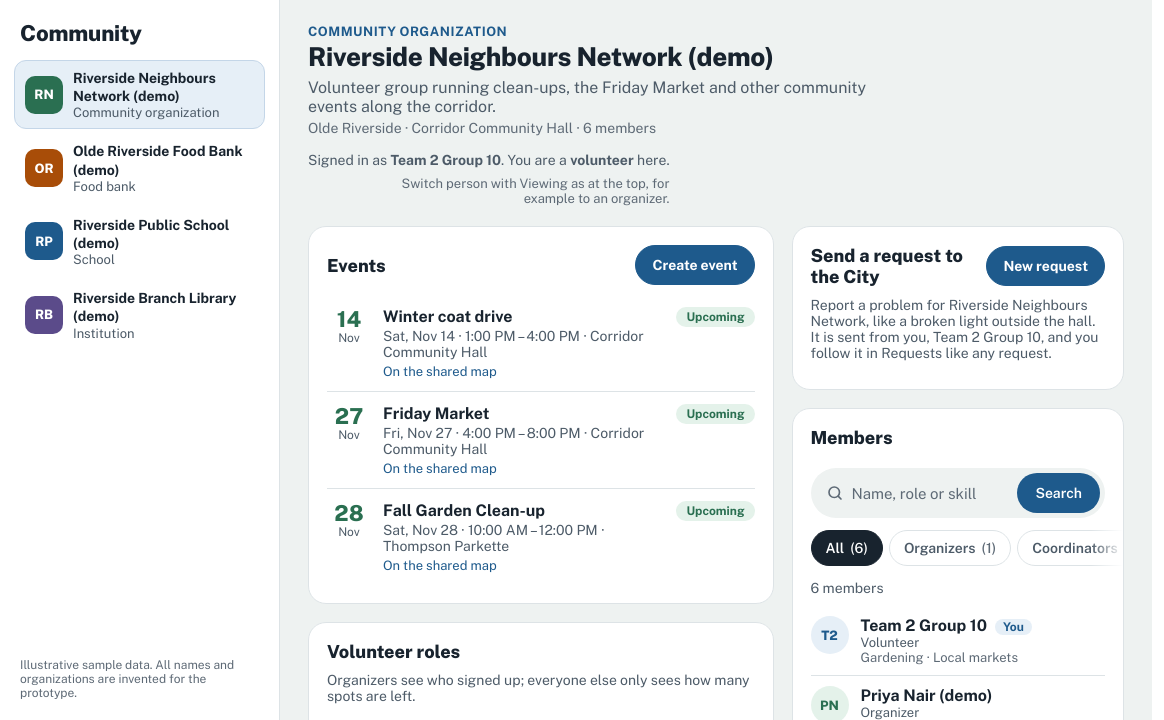
it: School workspace › lists the safe routes with their status in words and a link to the map
This screenshot has width=1164, height=720.
Expected: the heading "Riverside Neighbours Network (demo)" is shown, [308, 41, 774, 72]
Click the button "RP Riverside Public School (demo) School". click: click(140, 242)
box: [14, 207, 265, 276]
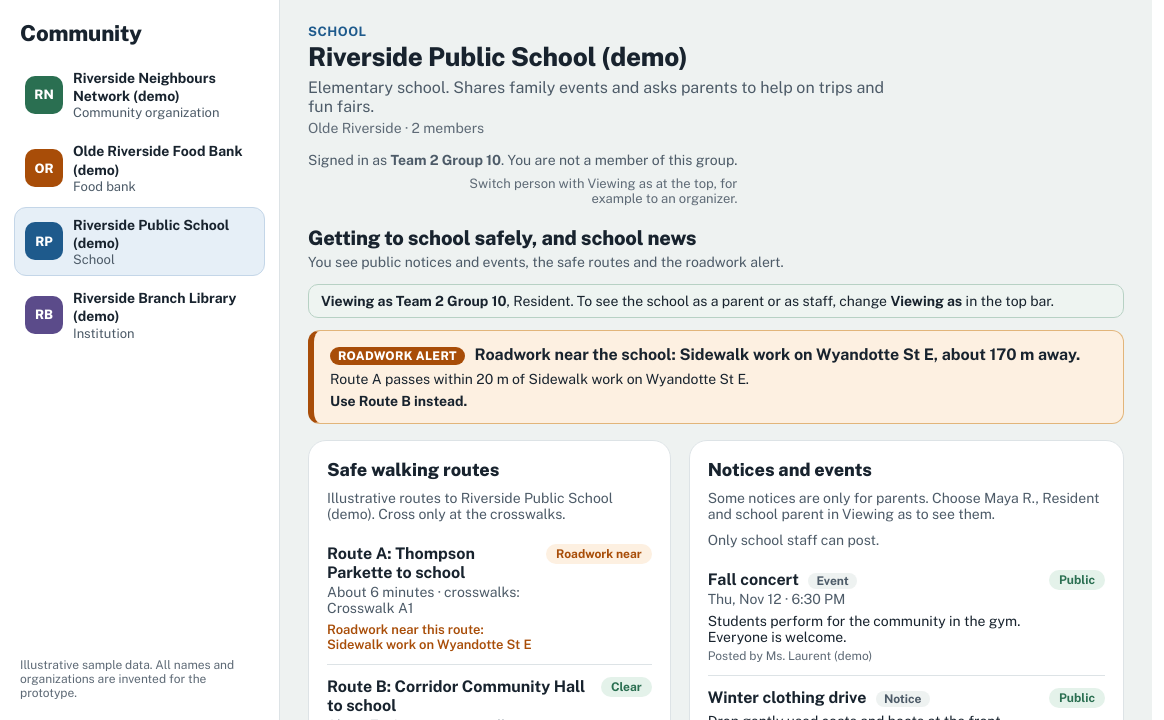
Expected: the heading "Riverside Public School (demo)" is shown, [308, 41, 688, 72]
Expected: the heading "Getting to school safely, and school news" is shown, [308, 226, 696, 250]
Expected: the list item that starts with "Route A" shows "Route A: Thompson Parkette to school", [327, 532, 652, 664]
